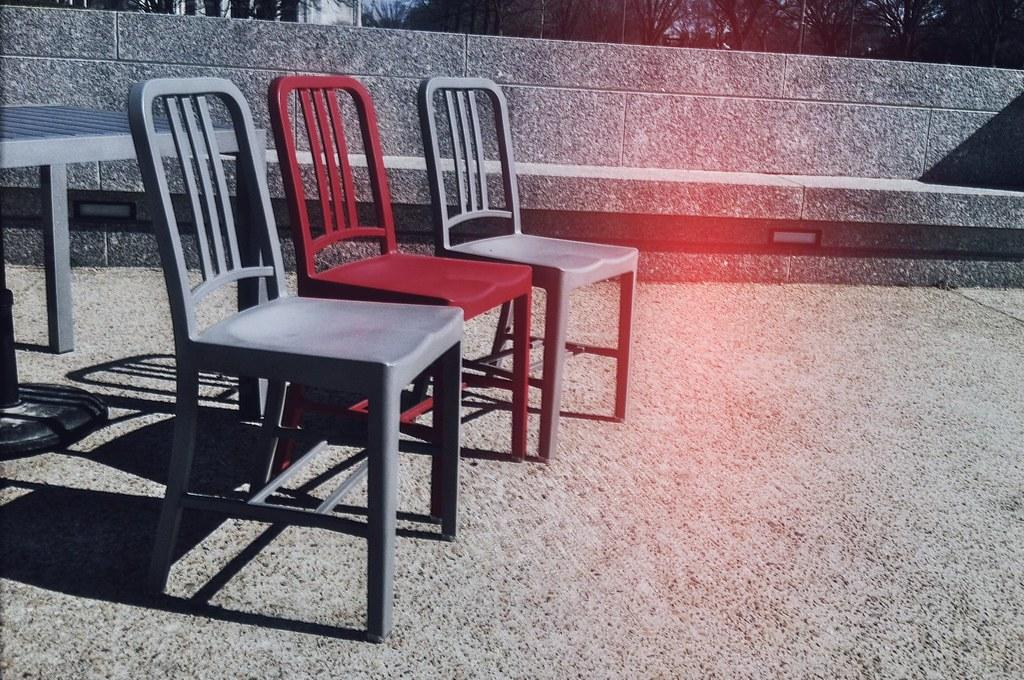chair: (127, 76, 464, 644), (267, 75, 534, 505), (418, 76, 640, 461)
